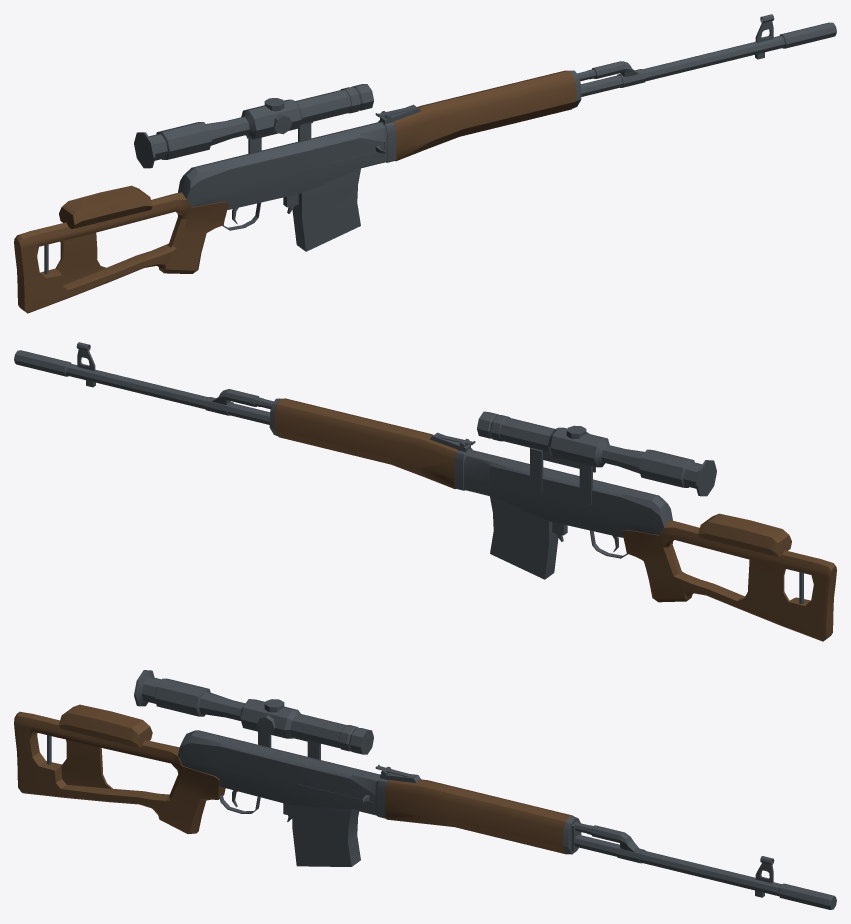
File: sniper.glb
The picture shows the model from 3 angles, top to bottom: view 1: azimuth 30°, elevation 25°; view 2: azimuth 150°, elevation 25°; view 3: azimuth 330°, elevation 25°; orthographic projection.
Parts seen in each view (by area): view 1: Cube; view 2: Cube; view 3: Cube.
Boxes of the visible parts, x1,y1,x2,y2 form: Cube: (14, 14, 836, 313); Cube: (14, 342, 836, 641); Cube: (14, 670, 836, 909).
Bounding box in the file's own units: 3.09 × 0.5584 × 0.1381.
